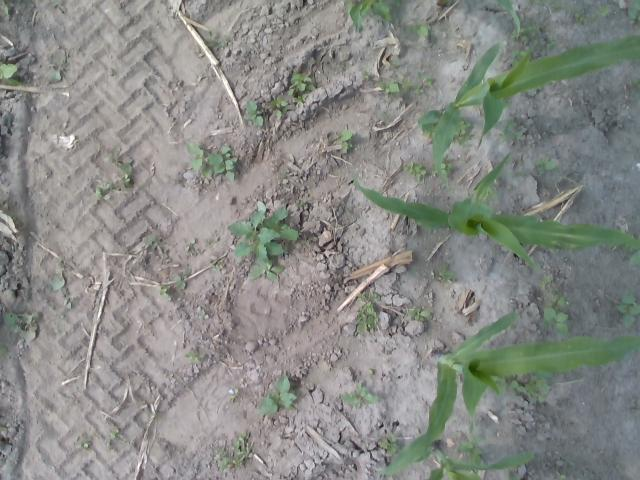Maize: (371, 312, 640, 476), (419, 36, 640, 193), (352, 152, 636, 274), (424, 443, 536, 480), (432, 0, 523, 34)
Weeds: (224, 198, 298, 282), (488, 370, 550, 404), (186, 138, 236, 180), (340, 0, 401, 30), (256, 374, 297, 415), (212, 433, 250, 472), (104, 148, 134, 192), (2, 310, 39, 342), (613, 288, 640, 330), (354, 290, 380, 332), (341, 382, 379, 409), (46, 273, 72, 310), (543, 300, 568, 336), (288, 72, 316, 102), (458, 434, 484, 466), (378, 76, 416, 95), (46, 54, 70, 84), (510, 20, 540, 41), (431, 154, 456, 178), (498, 119, 523, 142), (403, 160, 428, 183), (0, 61, 22, 87), (377, 434, 401, 456), (451, 121, 472, 146), (244, 100, 264, 126), (268, 94, 290, 117), (202, 28, 225, 50), (534, 156, 558, 176), (508, 48, 532, 68), (528, 0, 562, 13), (406, 306, 431, 322), (172, 269, 191, 290), (434, 265, 454, 284), (628, 0, 640, 30), (94, 180, 111, 201), (409, 20, 430, 37), (629, 236, 640, 268), (550, 289, 568, 307), (183, 237, 199, 257), (337, 129, 352, 150), (478, 186, 500, 200), (184, 348, 205, 362), (608, 242, 636, 252), (417, 72, 434, 88), (421, 120, 436, 138), (74, 439, 91, 451), (156, 285, 171, 298), (359, 66, 372, 80), (506, 469, 522, 480), (596, 5, 612, 16), (540, 274, 552, 288), (573, 12, 587, 24), (0, 0, 10, 15), (147, 235, 159, 246), (630, 78, 640, 91), (546, 36, 556, 48), (589, 12, 599, 24), (210, 262, 222, 271), (390, 59, 400, 69), (108, 428, 118, 438), (555, 471, 566, 480), (415, 84, 424, 94), (0, 346, 8, 356), (296, 199, 306, 207), (635, 398, 640, 413), (280, 170, 287, 178)
